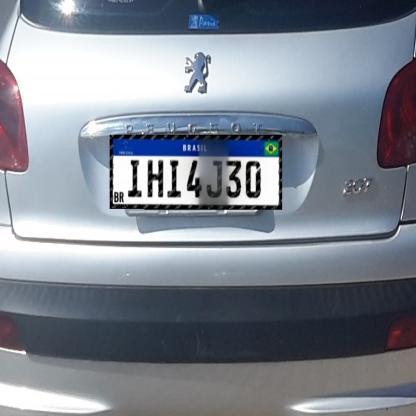PlacaM: (110, 134, 282, 209)
